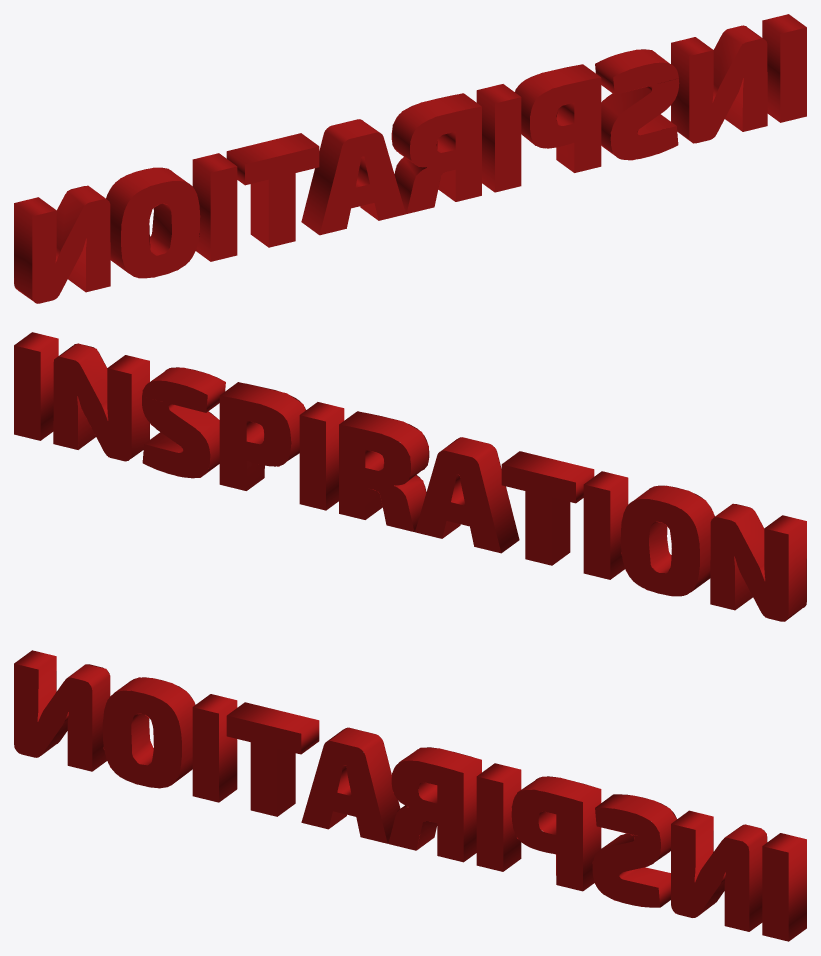
The model's file is inspiration.fbx.
The picture shows the model from 3 angles, top to bottom: view 1: azimuth 30°, elevation 25°; view 2: azimuth 150°, elevation 25°; view 3: azimuth 330°, elevation 25°; orthographic projection.
Visible parts, largest first — view 1: Text; view 2: Text; view 3: Text.
Boxes of the visible parts, x1,y1,x2,y2 form: Text: [14, 14, 806, 303]; Text: [14, 332, 806, 621]; Text: [14, 650, 806, 941].
Size of the model in its own units: 19.67 by 2.25 by 0.8001.
